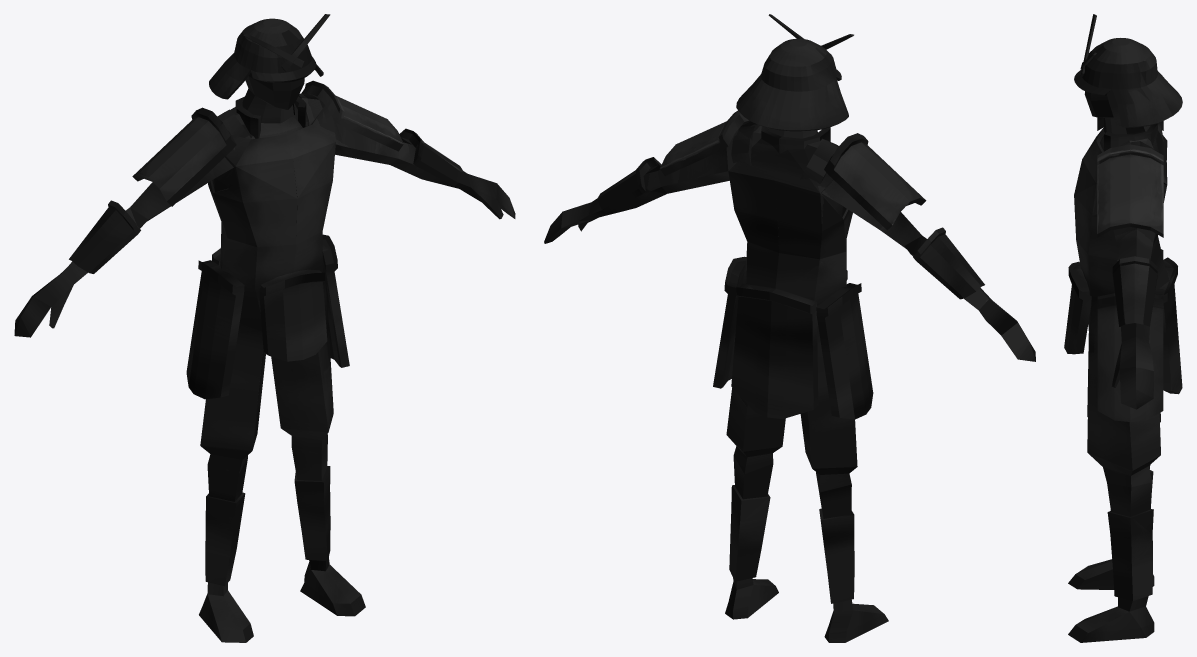
The model's file is Samurai.glb.
3 renders of one model, left to right at view 1: azimuth 30°, elevation 25°; view 2: azimuth 150°, elevation 25°; view 3: azimuth 270°, elevation 25°, orthographic. The views are drawn at different scales.
Visible parts, largest first — view 1: Base; view 2: Base; view 3: Base.
Part boxes in pixels (<box>): Base: <box>14,14,515,642</box>; Base: <box>544,14,1035,642</box>; Base: <box>1064,14,1182,642</box>.
Size of the model in its own units: 1.61 by 1.83 by 0.3423.
Materials: 1 (1 with a texture image).
